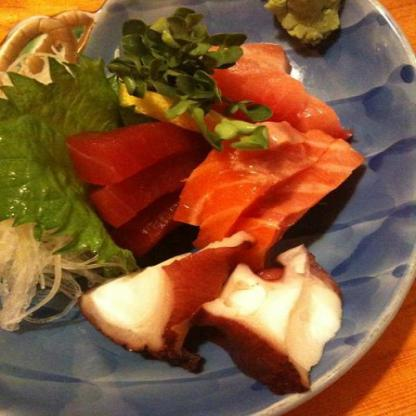salmon: (180, 122, 357, 244), (207, 38, 345, 139)
tuna: (62, 120, 204, 251)
